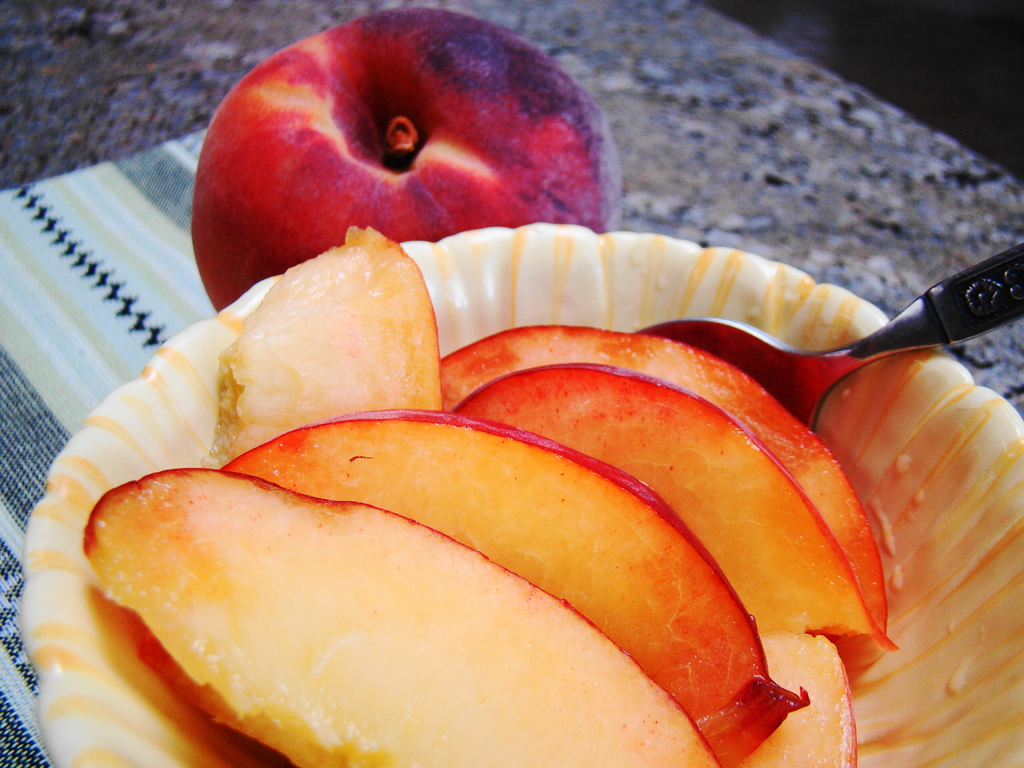Apple: (80, 227, 887, 767), (189, 0, 623, 309)
